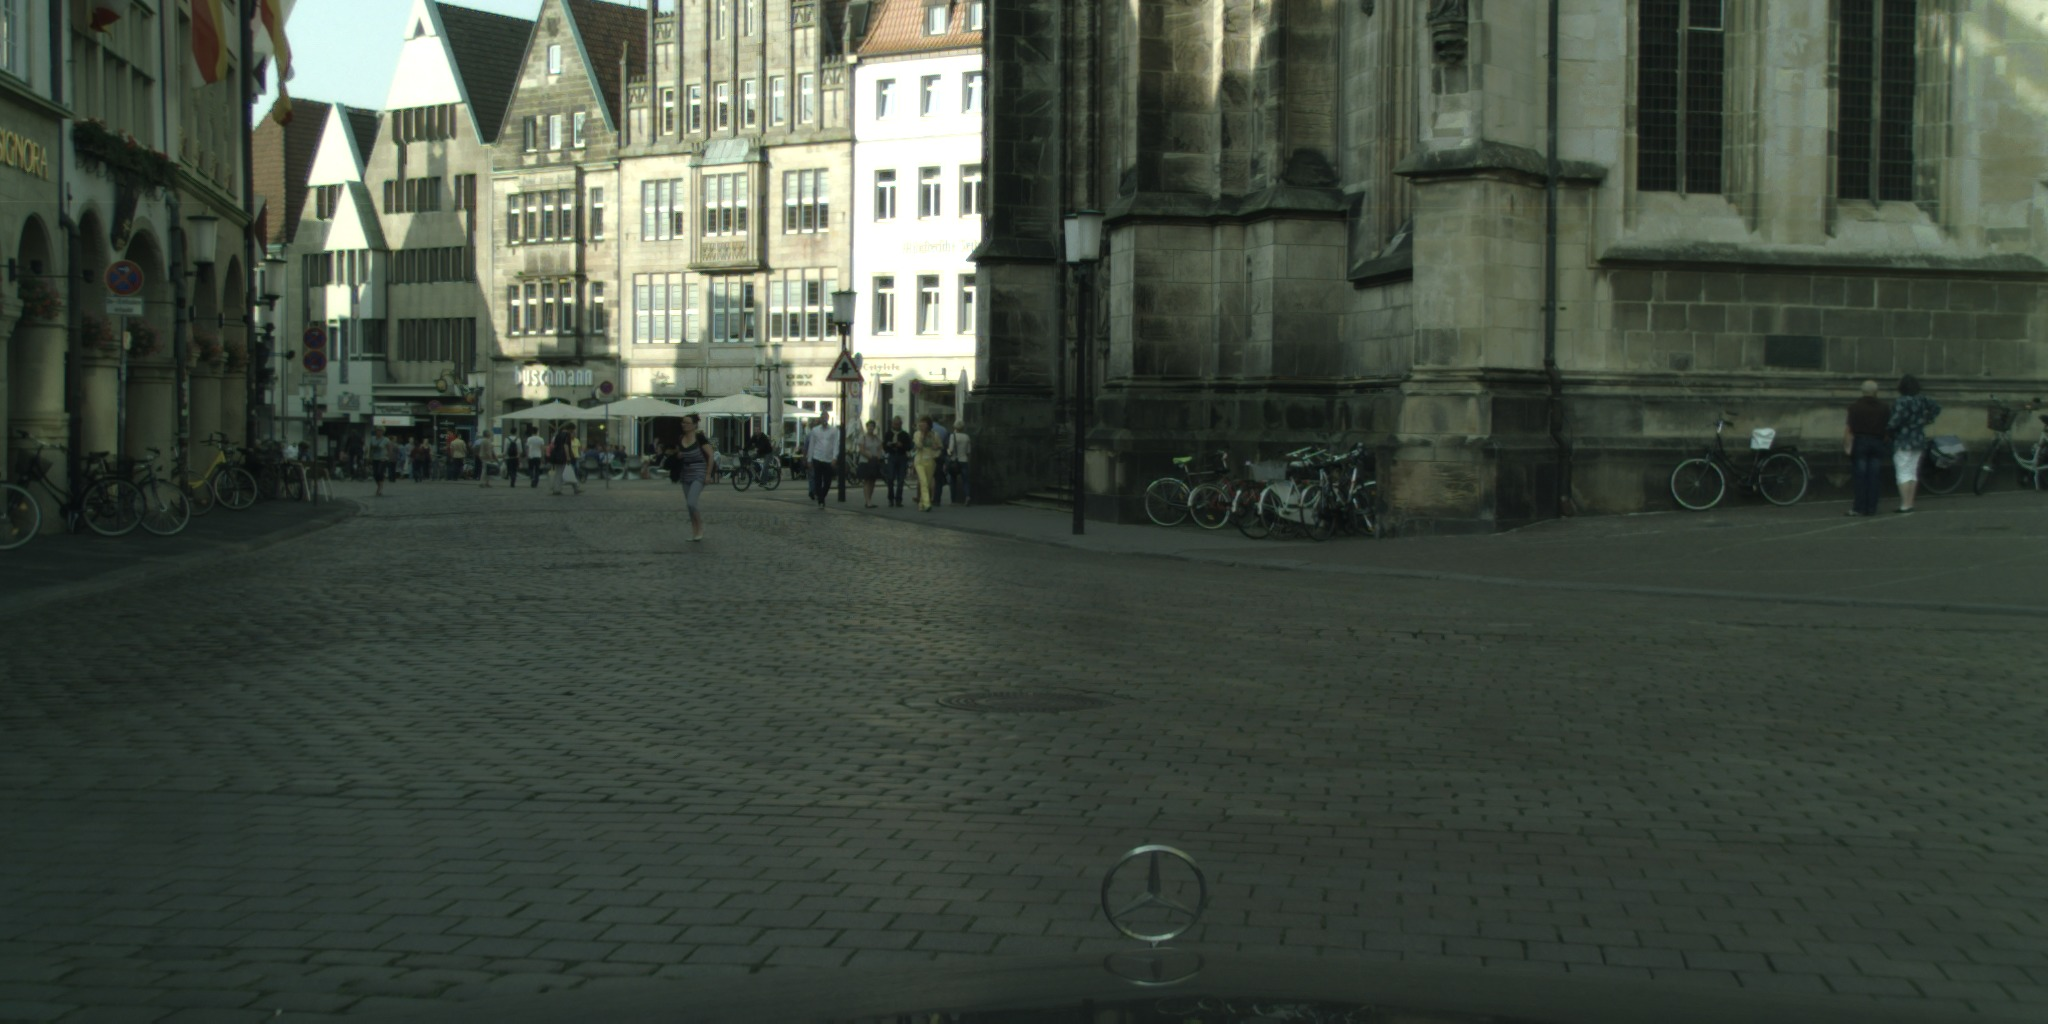bicycle: (6, 429, 147, 537), (1669, 408, 1815, 511), (67, 445, 190, 536), (1144, 448, 1265, 528), (1249, 446, 1342, 541), (1230, 444, 1320, 539), (1299, 439, 1375, 542), (1973, 392, 2048, 496), (186, 429, 257, 511), (1187, 457, 1269, 529), (1906, 434, 1969, 496), (168, 435, 216, 517), (0, 481, 43, 554), (731, 450, 782, 492), (350, 456, 358, 481)
person: (1841, 380, 1895, 518), (1888, 373, 1940, 514), (669, 412, 714, 542), (908, 414, 945, 512), (807, 410, 841, 511), (545, 421, 587, 497), (882, 415, 914, 508), (942, 415, 973, 507), (858, 419, 884, 509), (927, 412, 950, 505), (803, 417, 824, 500), (369, 423, 392, 498), (502, 426, 524, 488), (525, 426, 545, 490), (471, 428, 491, 482), (479, 429, 496, 489), (408, 436, 428, 483), (450, 433, 468, 484), (641, 445, 663, 480), (386, 435, 402, 483), (446, 428, 458, 482), (400, 437, 414, 478), (570, 428, 582, 471), (420, 437, 432, 481), (285, 440, 300, 469), (708, 444, 721, 468), (642, 437, 660, 455)
rider: (743, 425, 773, 484), (338, 429, 365, 473)
